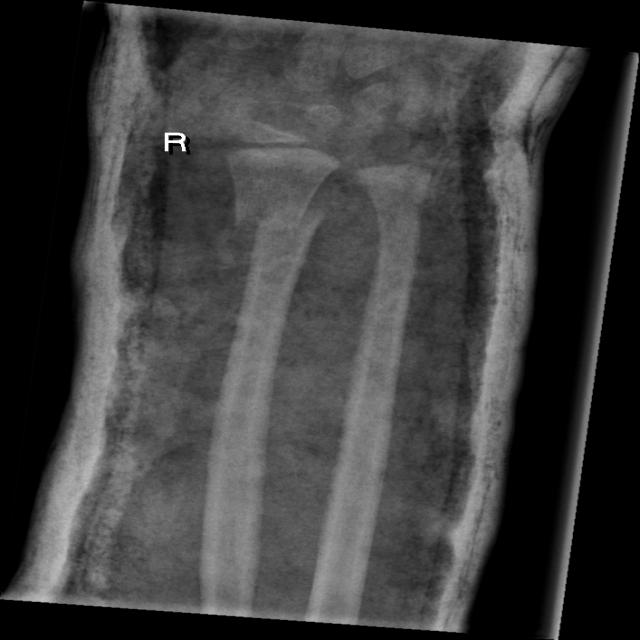radius fracture: (197, 175, 342, 336)
